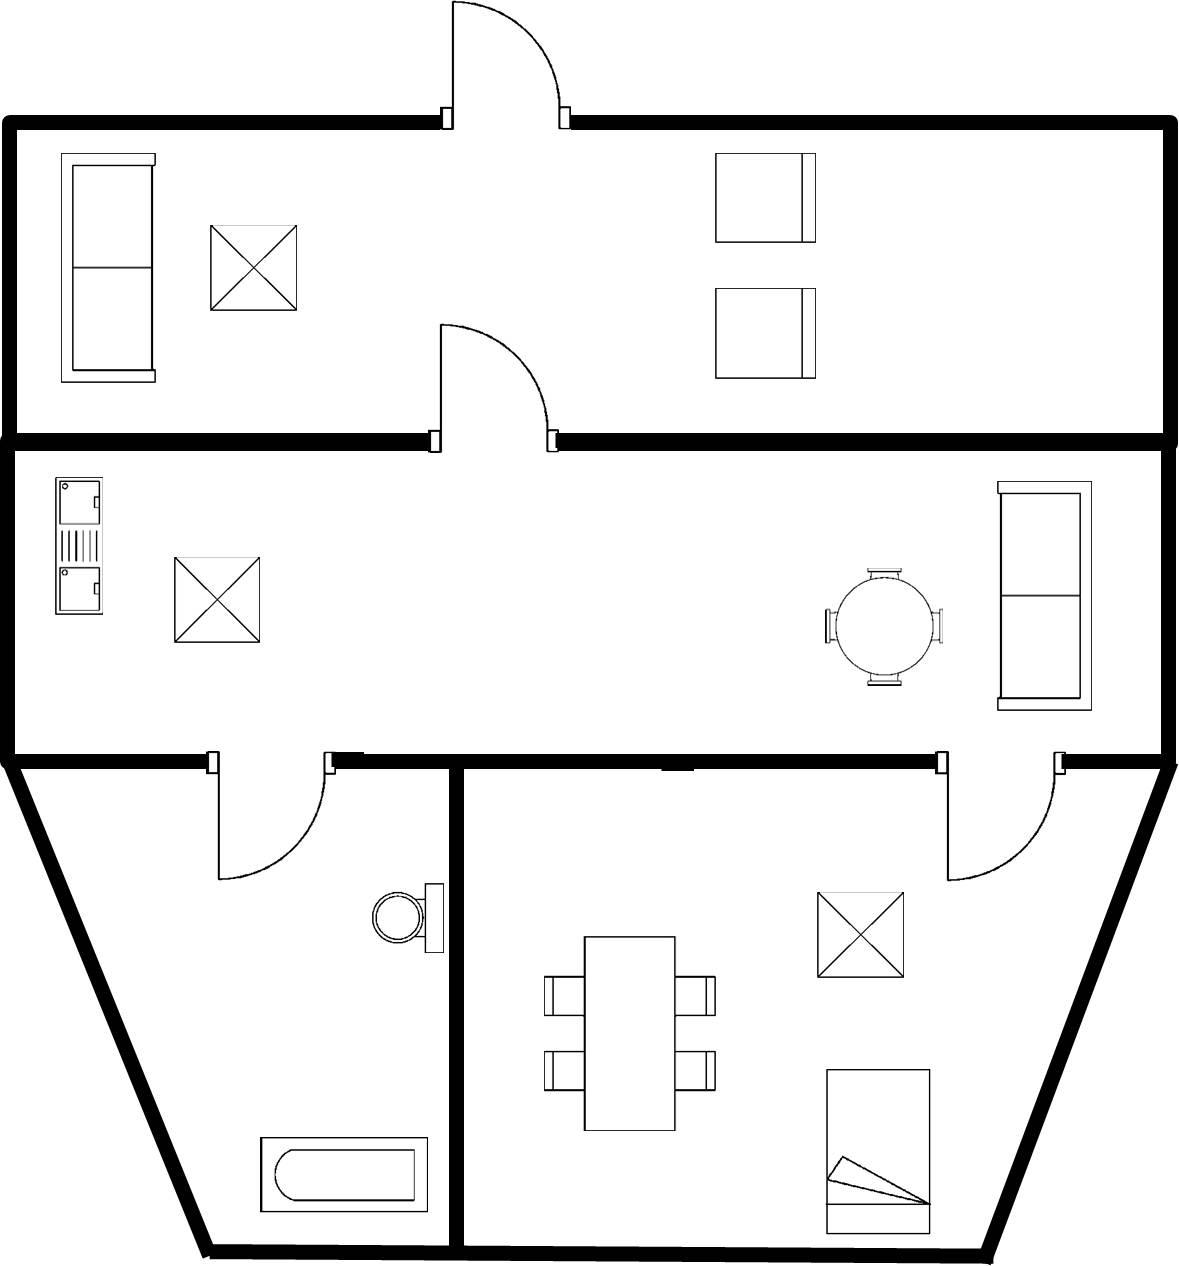sink: (44, 467, 107, 627)
